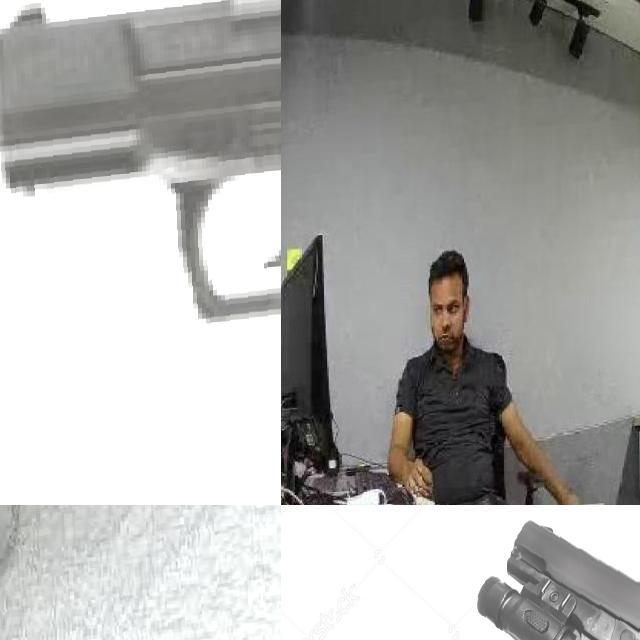gun-knife-thesis - v11 Yolov5 augmented: (0, 0, 281, 505), (0, 505, 281, 640), (474, 505, 640, 640)
